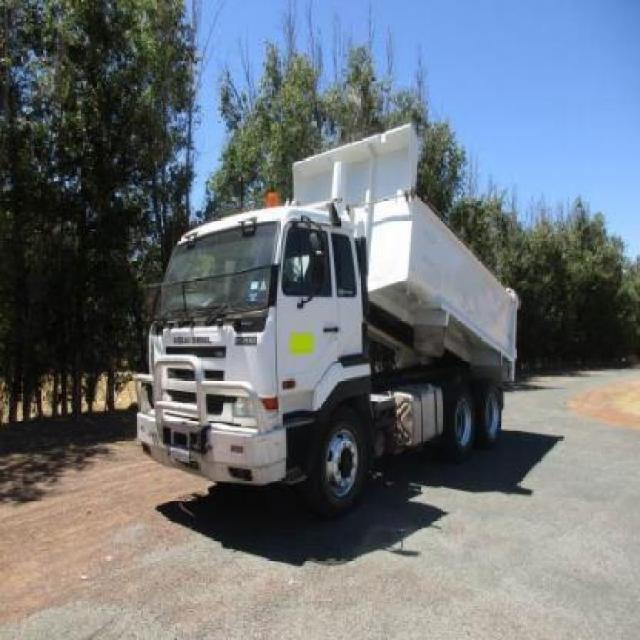Dump Truck: (132, 115, 524, 524)
